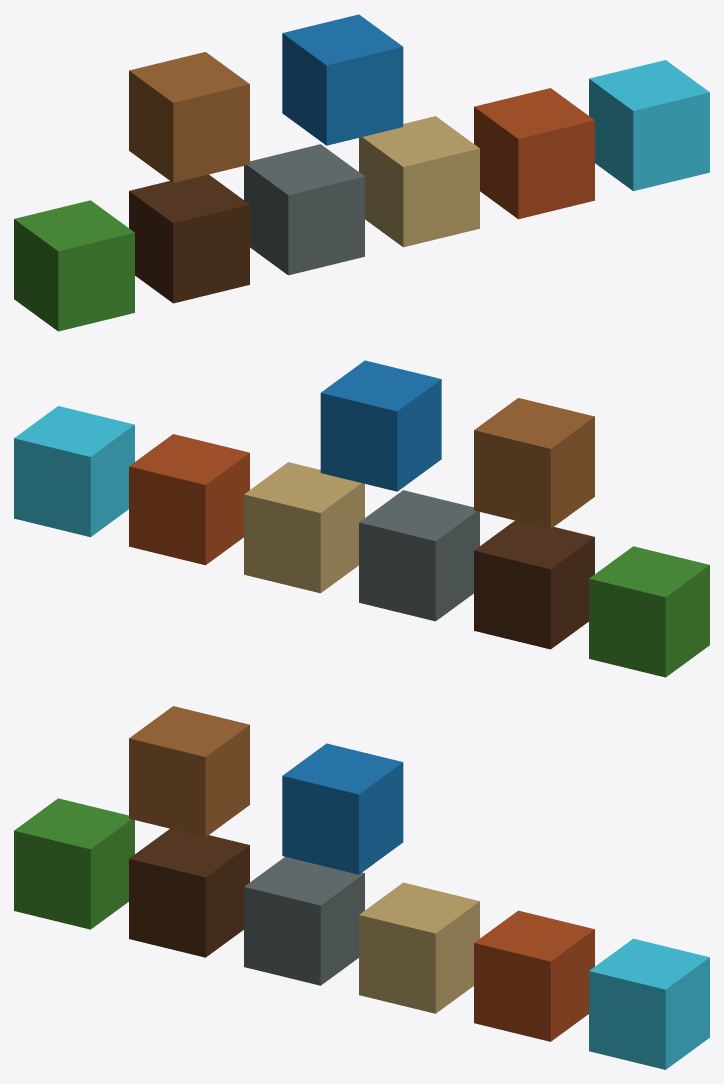
The model's file is voxel_block_set.obj.
3 views of the same model, one above another, from view 1: azimuth 30°, elevation 25°; view 2: azimuth 150°, elevation 25°; view 3: azimuth 330°, elevation 25° (orthographic).
Visible parts, largest first — view 1: WaterBlock, GrassBlock, LogEndBlock, CopperOreBlock, CrystalOreBlock, StoneBlock, DirtBlock, SandBlock; view 2: WaterBlock, GrassBlock, LogEndBlock, CopperOreBlock, CrystalOreBlock, StoneBlock, DirtBlock, SandBlock; view 3: WaterBlock, CrystalOreBlock, LogEndBlock, CopperOreBlock, SandBlock, GrassBlock, DirtBlock, StoneBlock.
Part boxes in pixels (bbox=[...]): WaterBlock: bbox=[282, 14, 403, 145]; GrassBlock: bbox=[14, 200, 134, 331]; LogEndBlock: bbox=[129, 52, 249, 182]; CopperOreBlock: bbox=[474, 88, 594, 219]; CrystalOreBlock: bbox=[589, 60, 709, 191]; StoneBlock: bbox=[244, 144, 364, 275]; DirtBlock: bbox=[129, 174, 249, 303]; SandBlock: bbox=[359, 116, 479, 247]; WaterBlock: bbox=[320, 360, 441, 491]; GrassBlock: bbox=[589, 546, 709, 677]; LogEndBlock: bbox=[474, 398, 594, 528]; CopperOreBlock: bbox=[129, 434, 249, 565]; CrystalOreBlock: bbox=[14, 406, 134, 537]; StoneBlock: bbox=[359, 490, 479, 621]; DirtBlock: bbox=[474, 520, 594, 649]; SandBlock: bbox=[244, 462, 364, 593]; WaterBlock: bbox=[282, 743, 403, 874]; CrystalOreBlock: bbox=[589, 938, 709, 1069]; LogEndBlock: bbox=[129, 706, 249, 837]; CopperOreBlock: bbox=[474, 910, 594, 1041]; SandBlock: bbox=[359, 882, 479, 1013]; GrassBlock: bbox=[14, 798, 134, 929]; DirtBlock: bbox=[129, 828, 249, 957]; StoneBlock: bbox=[244, 857, 364, 985].
Size of the model in its own units: 8.5 by 2.5 by 1.
